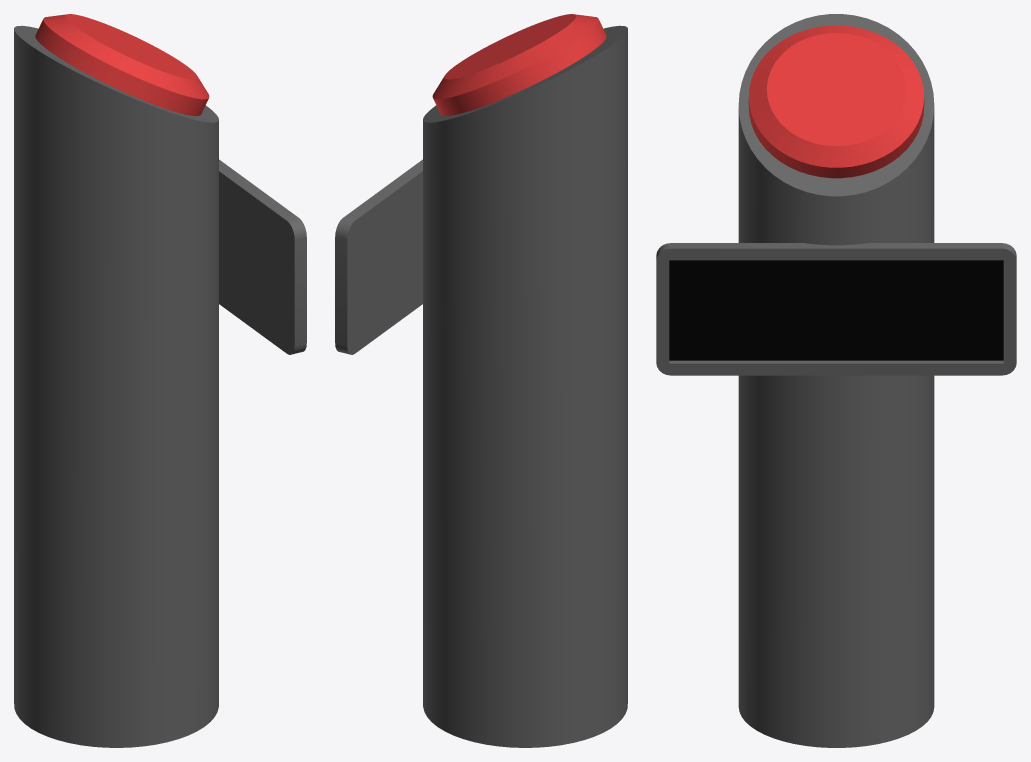
Rendered from standingButton.fbx.
The picture shows the model from 3 angles, left to right: view 1: azimuth 30°, elevation 25°; view 2: azimuth 150°, elevation 25°; view 3: azimuth 270°, elevation 25°; orthographic projection. The views are drawn at different scales.
Visible parts, largest first — view 1: Base, Text Display, Button; view 2: Base, Text Display, Button; view 3: Base, Text Display, Button.
Boxes of the visible parts, bbox=[...] form: Base: bbox=[14, 25, 218, 747]; Text Display: bbox=[219, 159, 306, 354]; Button: bbox=[35, 14, 209, 115]; Base: bbox=[423, 25, 627, 747]; Text Display: bbox=[335, 159, 422, 354]; Button: bbox=[432, 14, 606, 115]; Base: bbox=[738, 14, 934, 747]; Text Display: bbox=[656, 243, 1016, 375]; Button: bbox=[748, 25, 924, 178].
Size of the model in its own units: 208 by 739 by 369.
